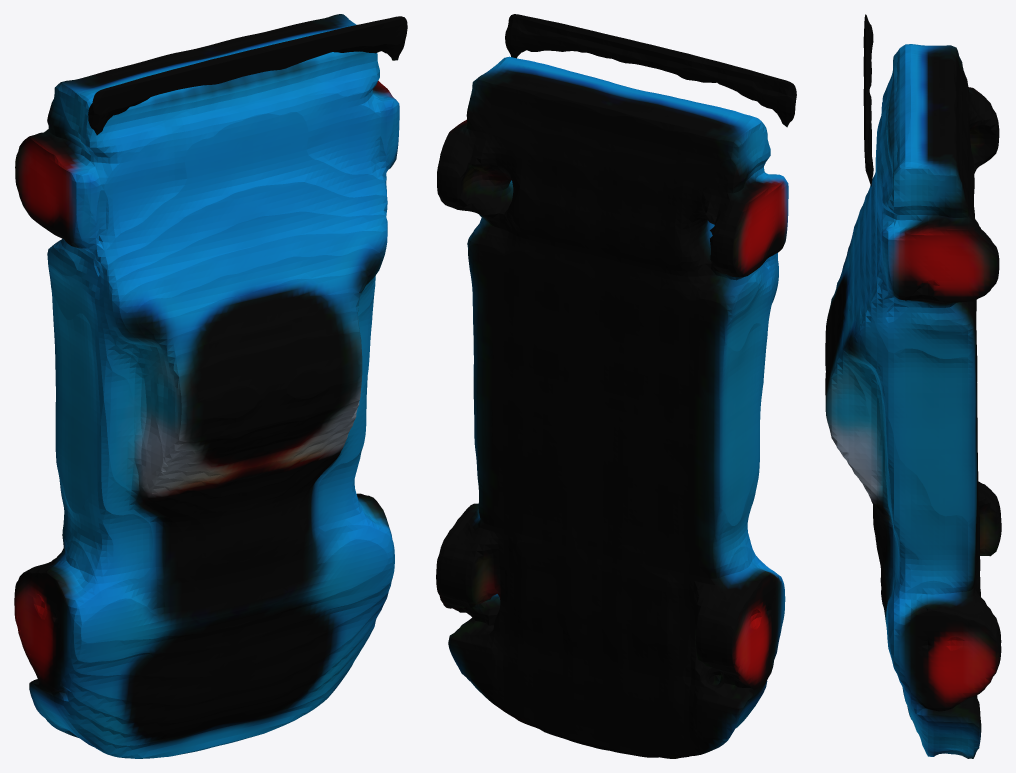
3 renders of one model, left to right at view 1: azimuth 30°, elevation 25°; view 2: azimuth 150°, elevation 25°; view 3: azimuth 270°, elevation 25°, orthographic. The views are drawn at different scales.
Parts seen in each view (by area): view 1: cube_0.obj; view 2: cube_0.obj; view 3: cube_0.obj.
Part boxes in pixels (x1,y1,x2,y2): cube_0.obj: [14, 14, 407, 758]; cube_0.obj: [436, 14, 796, 758]; cube_0.obj: [825, 14, 1001, 758].
Size of the model in its own units: 0.9258 by 1.97 by 0.4823.
